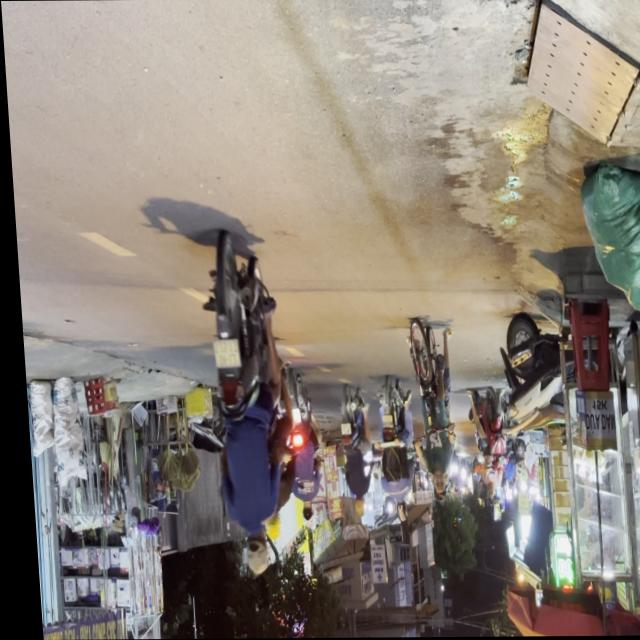licenseplate: (191, 235, 290, 579)
motorcyclist: (233, 530, 261, 576)
nohelmet: (206, 340, 234, 368)
